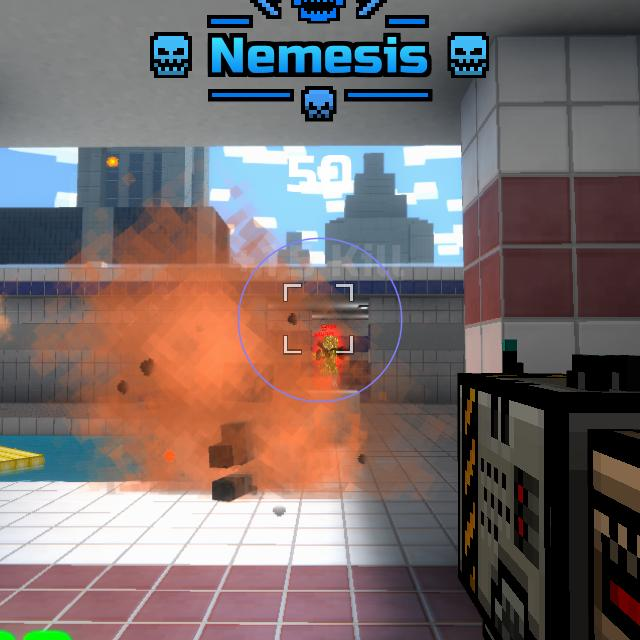Enemy: (313, 335, 343, 378)
